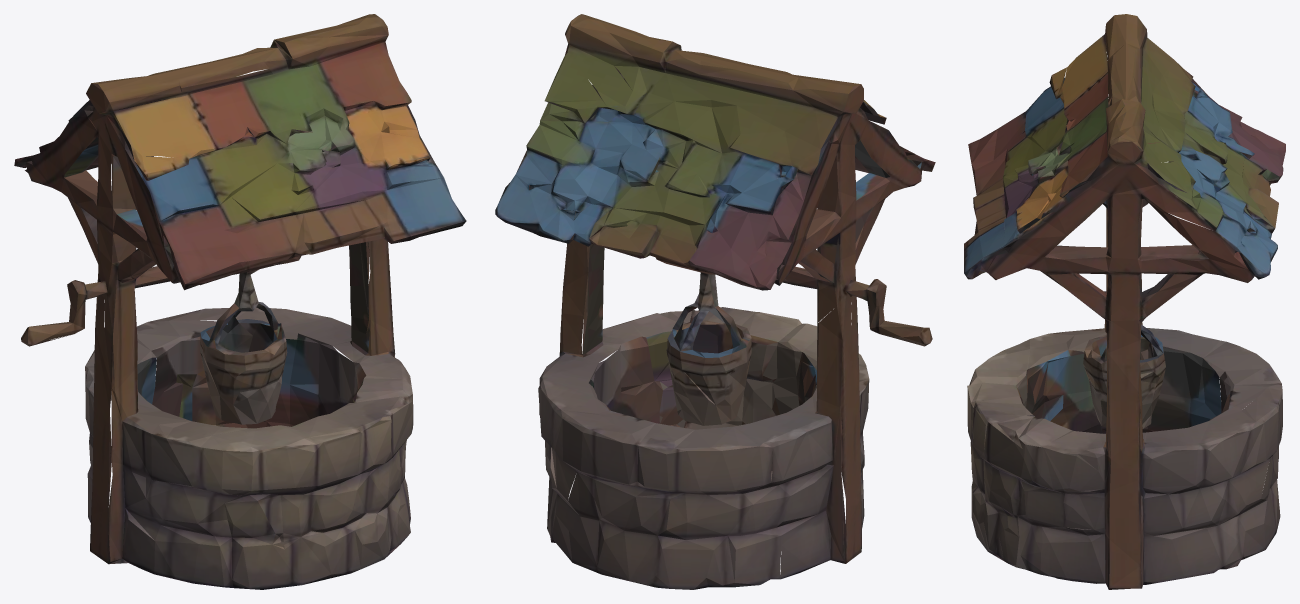
File: well.glb
3 renders of one model, left to right at view 1: azimuth 30°, elevation 25°; view 2: azimuth 150°, elevation 25°; view 3: azimuth 270°, elevation 25°, orthographic. The views are drawn at different scales.
Visible parts, largest first — view 1: geometry_0; view 2: geometry_0; view 3: geometry_0.
Part boxes in pixels (x1,y1,x2,y2): geometry_0: (14,14,466,589); geometry_0: (495,14,935,589); geometry_0: (964,14,1285,589).
Bounding box in the file's own units: 0.9124 × 1.11 × 0.7279.
Materials: 1 (1 with a texture image).
